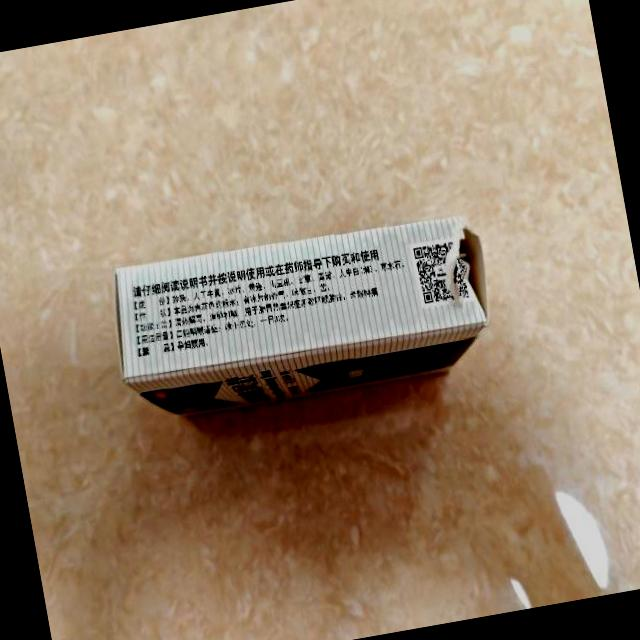box: (102, 202, 500, 428)
